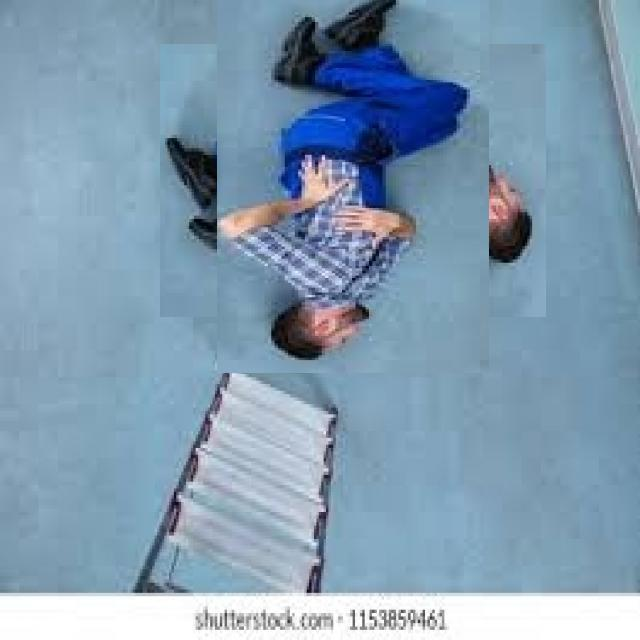Fall: (220, 19, 474, 358)
